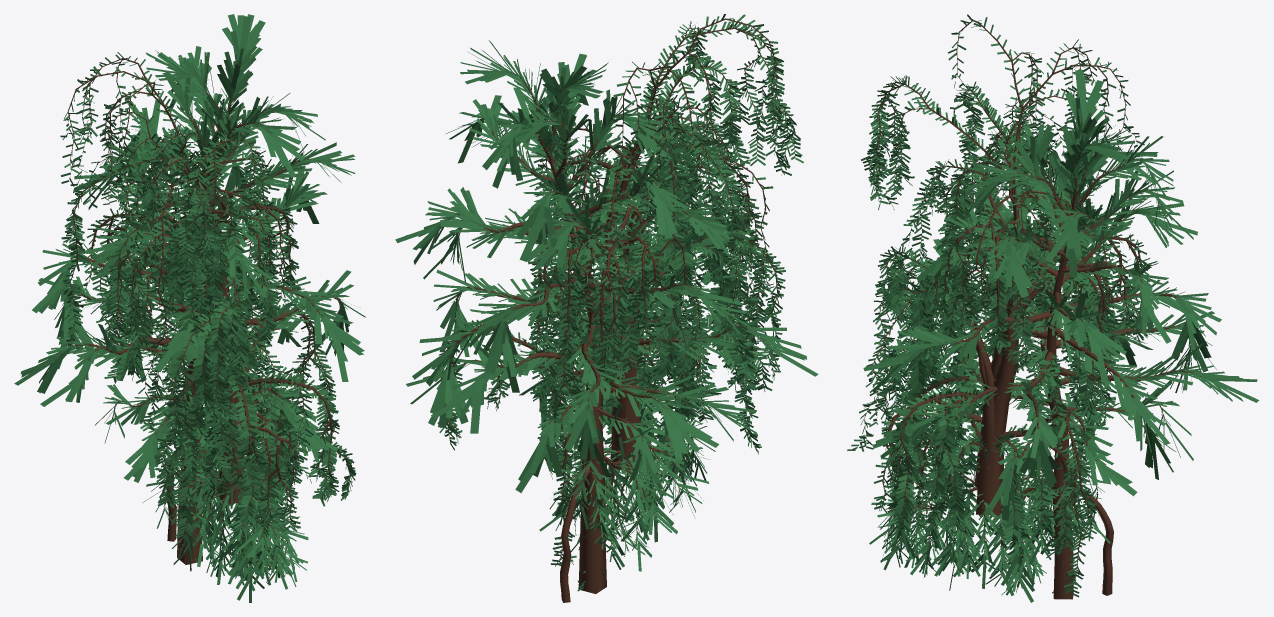
Rendered from arboles.glb.
3 views of the same model, side by side, from view 1: azimuth 30°, elevation 25°; view 2: azimuth 150°, elevation 25°; view 3: azimuth 270°, elevation 25° (orthographic). The views are drawn at different scales.
Visible parts, largest first — view 1: sauce, pino, matorral; view 2: sauce, pino, matorral; view 3: sauce, pino, matorral.
Part boxes in pixels (x1,y1,x2,y2): sauce: (60, 52, 356, 560); pino: (14, 14, 365, 564); matorral: (142, 415, 308, 602); sauce: (434, 14, 803, 591); pino: (395, 40, 818, 593); matorral: (539, 399, 715, 602); sauce: (847, 14, 1149, 599); pino: (863, 70, 1259, 599); matorral: (869, 454, 1113, 602).
Bounding box in the file's own units: 11.81 × 17.68 × 12.32.
